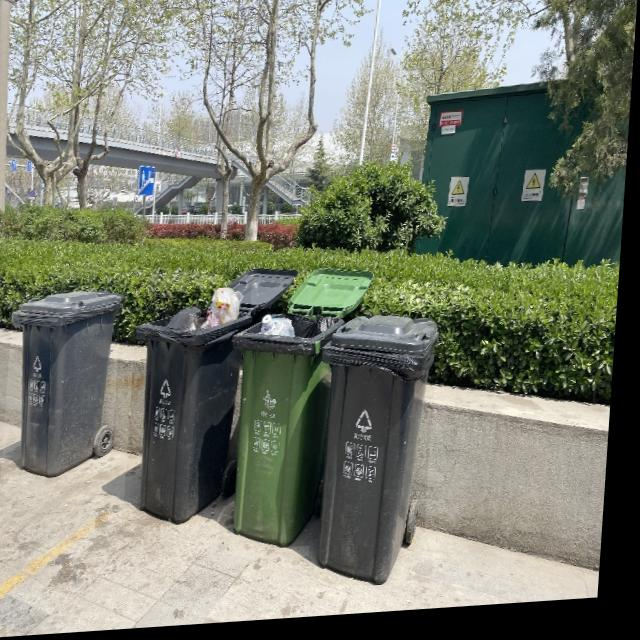garbage_bin: (315, 317, 444, 595), (8, 289, 126, 479)
overflow: (130, 288, 256, 530), (225, 309, 348, 556)
